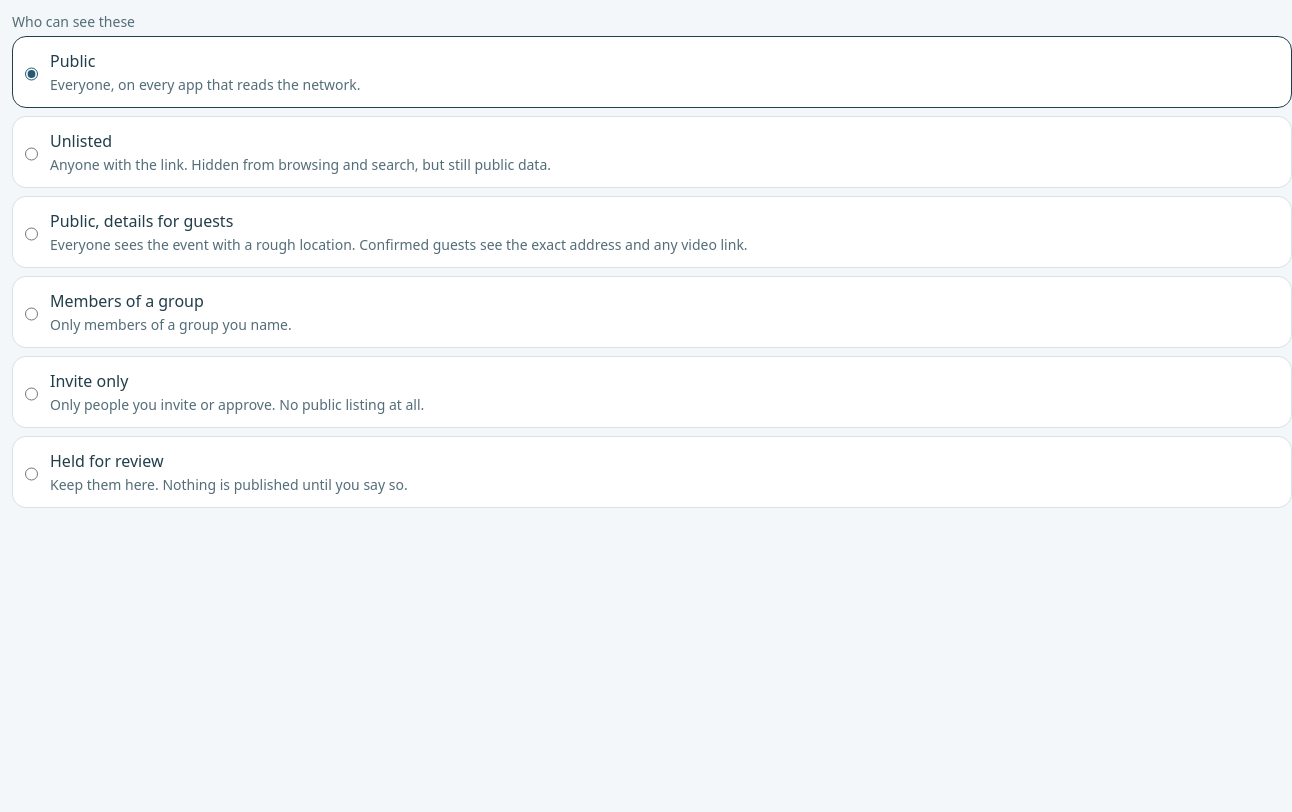
it: VisibilityPicker › shows the honest-terms notice when a permissioned level is chosen
What coordinates should you click on to do the following:
click the radio button labelled "Invite only"
I would click on:
 (32, 394)
Its box is x1=25 y1=373 x2=38 y2=415.
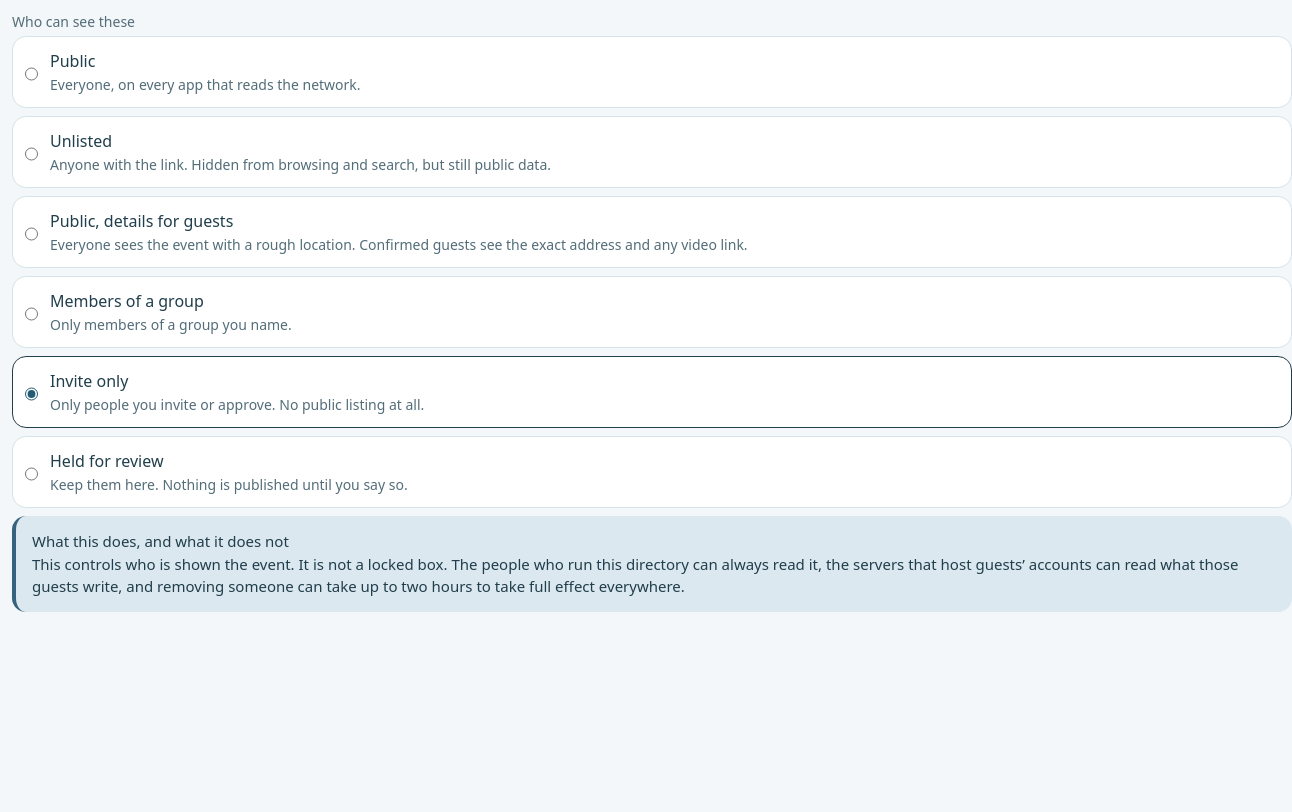
Expected: the element with test id "honest-terms" is shown, x1=12 y1=516 x2=1291 y2=612
